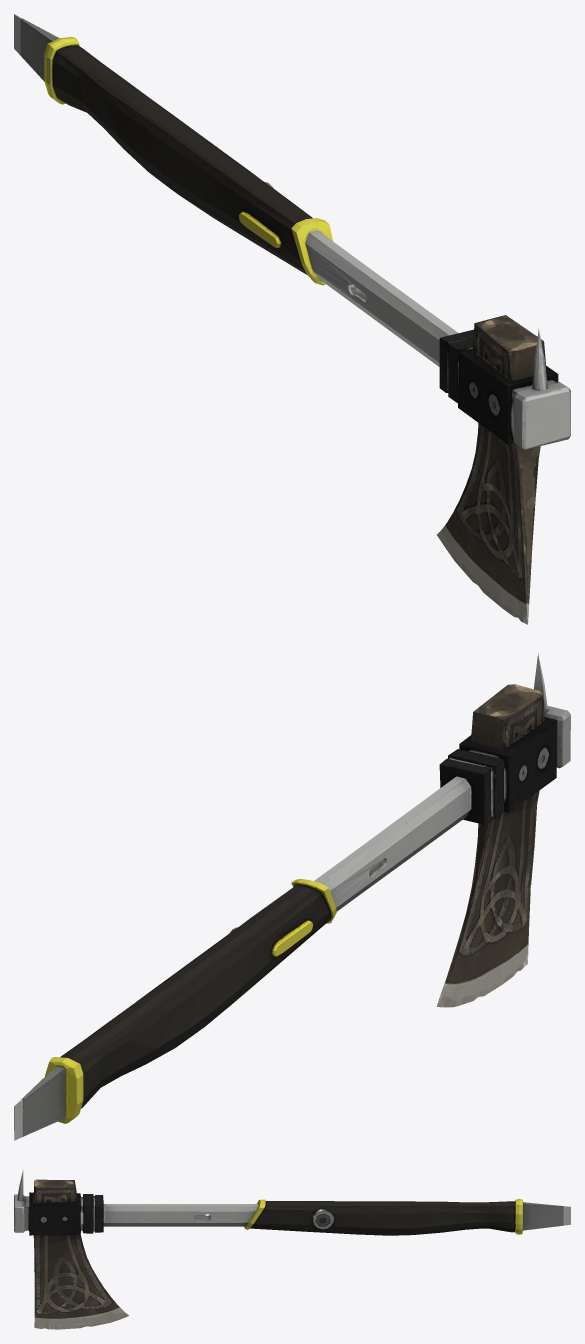
Rendered from axe.obj.
3 views of the same model, one above another, from view 1: azimuth 30°, elevation 25°; view 2: azimuth 150°, elevation 25°; view 3: azimuth 270°, elevation 25° (orthographic). The views are drawn at different scales.
Visible parts, largest first — view 1: 69465678_obj; view 2: 69465678_obj; view 3: 69465678_obj.
Part boxes in pixels (bbox=[...]): 69465678_obj: bbox=[14, 14, 570, 624]; 69465678_obj: bbox=[14, 653, 570, 1140]; 69465678_obj: bbox=[14, 1170, 570, 1329].
Size of the model in its own units: 0.0478 by 0.2734 by 0.8626.
1 material, 1 textured.
